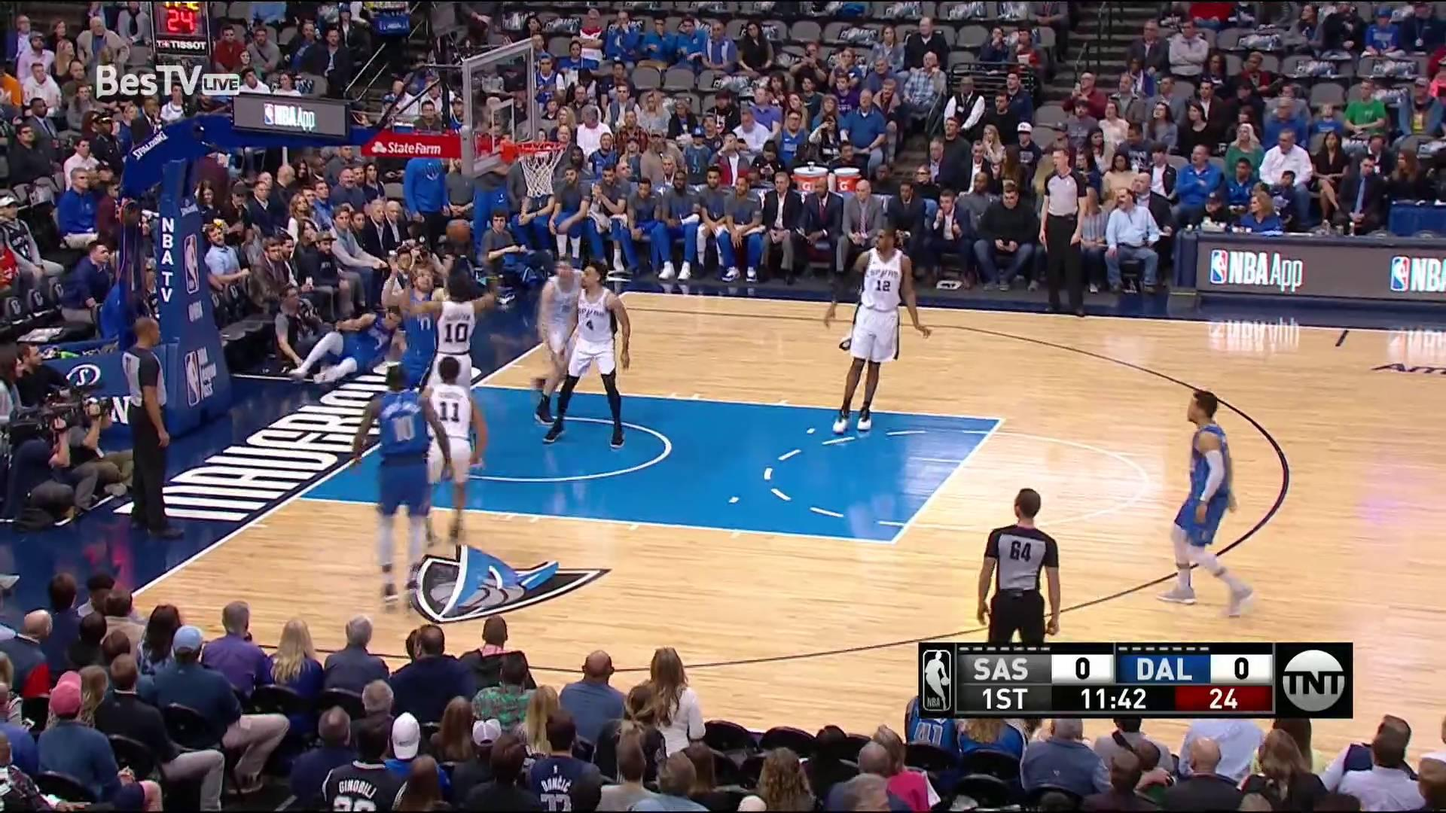basketball: (443, 218, 473, 246)
